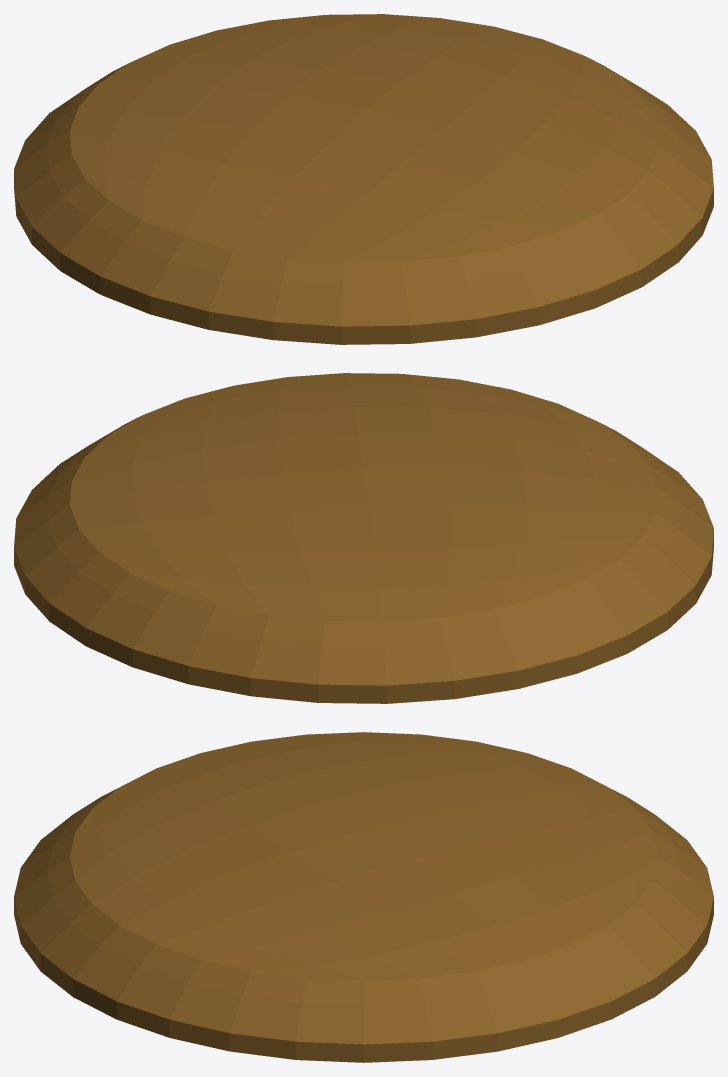
The model's file is Shield.fbx.
3 renders of one model, top to bottom at view 1: azimuth 30°, elevation 25°; view 2: azimuth 150°, elevation 25°; view 3: azimuth 270°, elevation 25°, orthographic.
Parts seen in each view (by area): view 1: Circle; view 2: Circle; view 3: Circle.
Boxes of the visible parts, bbox=[...] form: Circle: bbox=[14, 14, 713, 344]; Circle: bbox=[14, 373, 713, 703]; Circle: bbox=[14, 732, 713, 1062].
Bounding box in the file's own units: 177 × 23.88 × 177.
